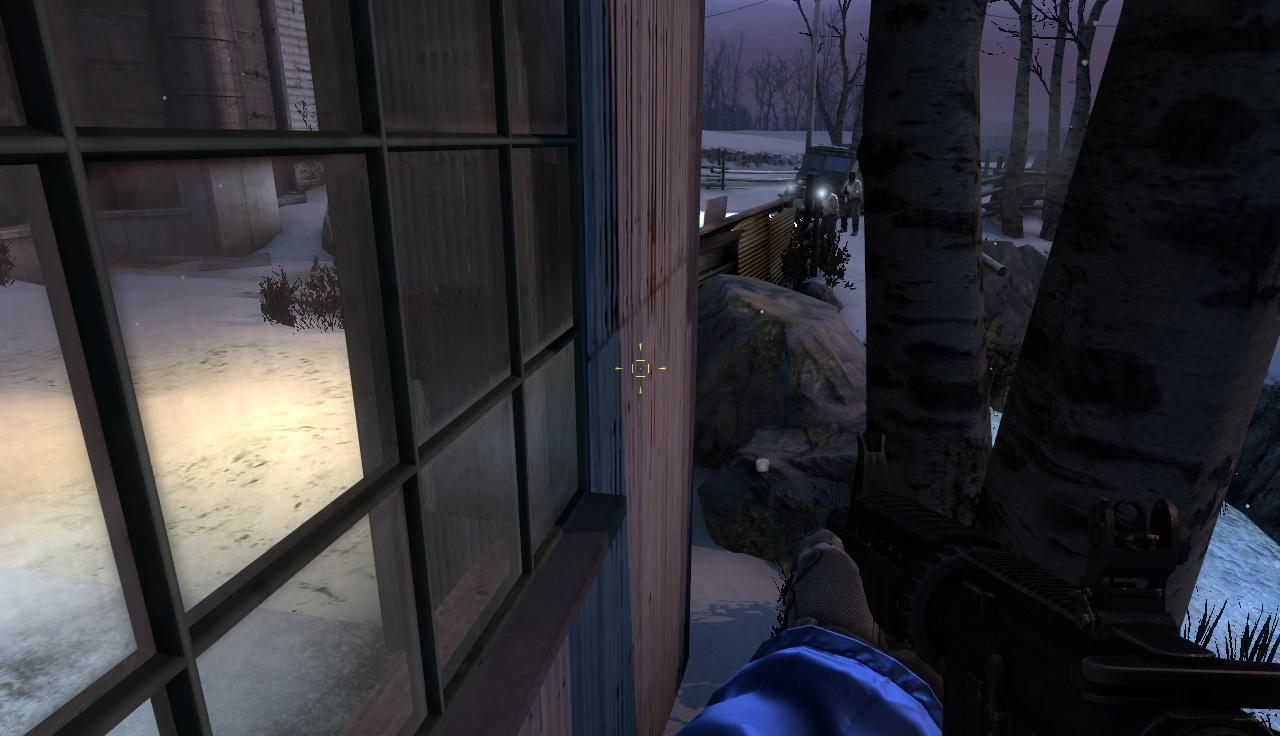rifle: (796, 431, 1280, 736)
tt: (841, 172, 862, 235), (819, 185, 839, 229)
tthead: (848, 172, 855, 184)
